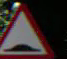Speed Breaker ahead: (3, 3, 51, 58)
